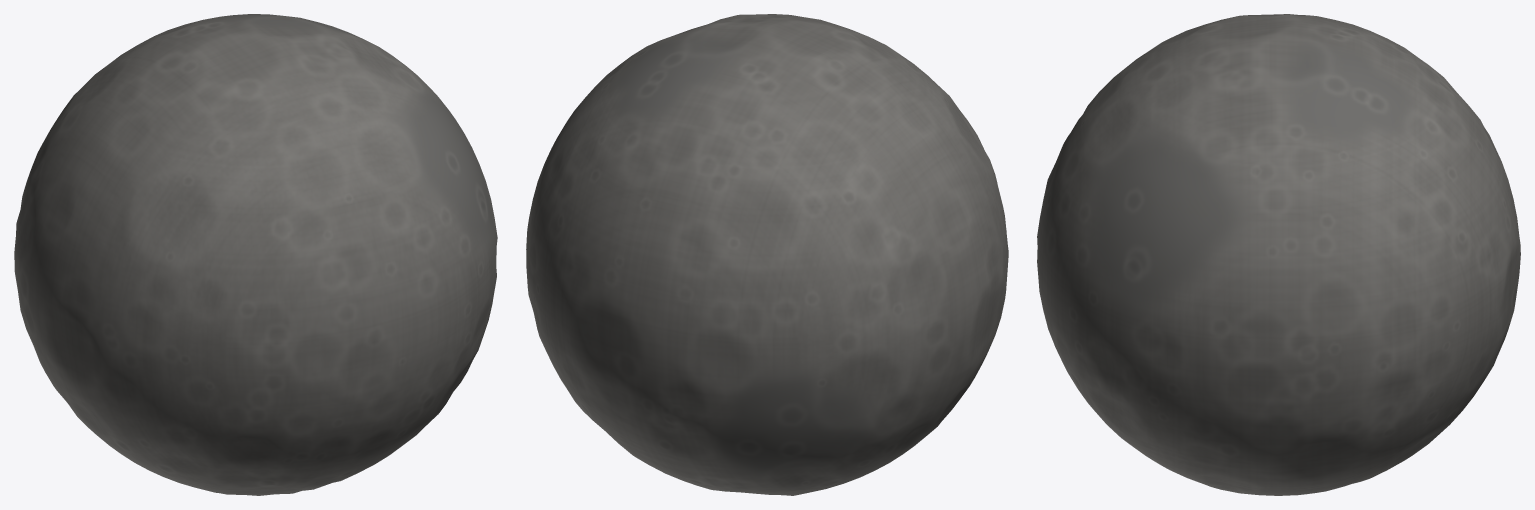
Rendered from mercury.glb.
3 views of the same model, side by side, from view 1: azimuth 30°, elevation 25°; view 2: azimuth 150°, elevation 25°; view 3: azimuth 270°, elevation 25° (orthographic).
Parts seen in each view (by area): view 1: model; view 2: model; view 3: model.
Part boxes in pixels (left/top/right/bottom): model: left=14, top=14, right=497, bottom=495; model: left=526, top=14, right=1008, bottom=495; model: left=1037, top=14, right=1520, bottom=495.
Size of the model in its own units: 2 by 2 by 1.99.
Materials: 1 (1 with a texture image).
